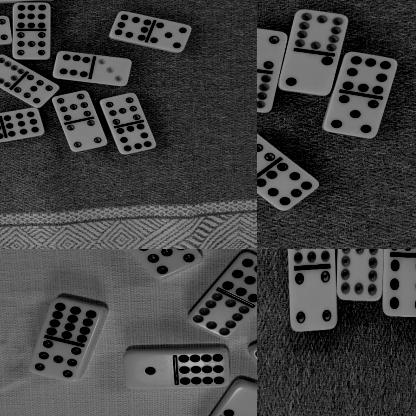pip-1: (124, 350, 177, 390)
pip-10: (187, 294, 251, 340), (336, 249, 383, 302), (295, 8, 345, 54), (287, 249, 336, 267), (0, 55, 26, 88), (257, 71, 273, 115)
pip-12: (48, 299, 102, 344), (176, 351, 229, 388)
pip-2: (278, 54, 335, 96), (224, 386, 257, 416)
pip-3: (92, 56, 132, 87)
pip-4: (289, 268, 338, 332), (64, 121, 108, 154), (257, 26, 288, 70)
pip-5: (322, 94, 380, 140), (150, 23, 192, 53)
pip-6: (382, 255, 416, 318), (53, 51, 92, 82)
pip-7: (32, 342, 84, 382), (138, 249, 201, 279), (13, 76, 61, 109), (101, 92, 142, 126), (52, 90, 92, 122), (13, 31, 52, 61), (257, 127, 276, 178), (0, 15, 12, 46)
pip-8: (257, 161, 320, 211), (342, 52, 397, 96), (109, 11, 153, 42), (116, 123, 157, 156)
pip-9: (223, 252, 257, 304), (3, 108, 45, 139), (12, 2, 53, 31)
